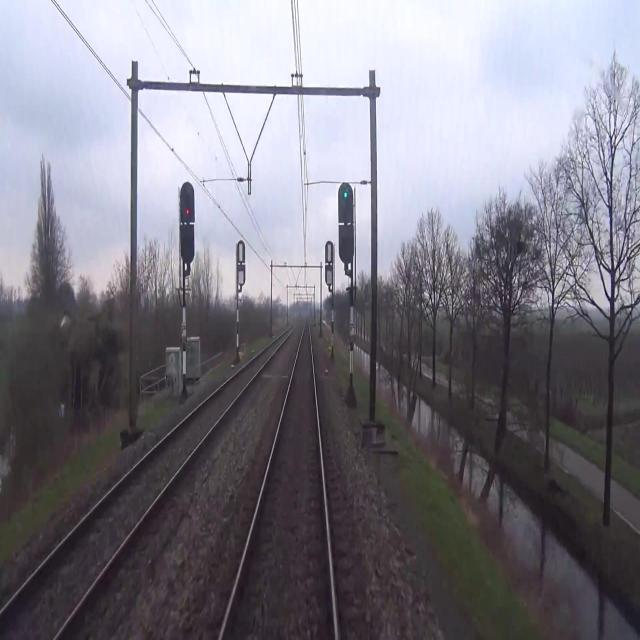rail-track: (0, 328, 291, 639), (222, 321, 334, 639)
